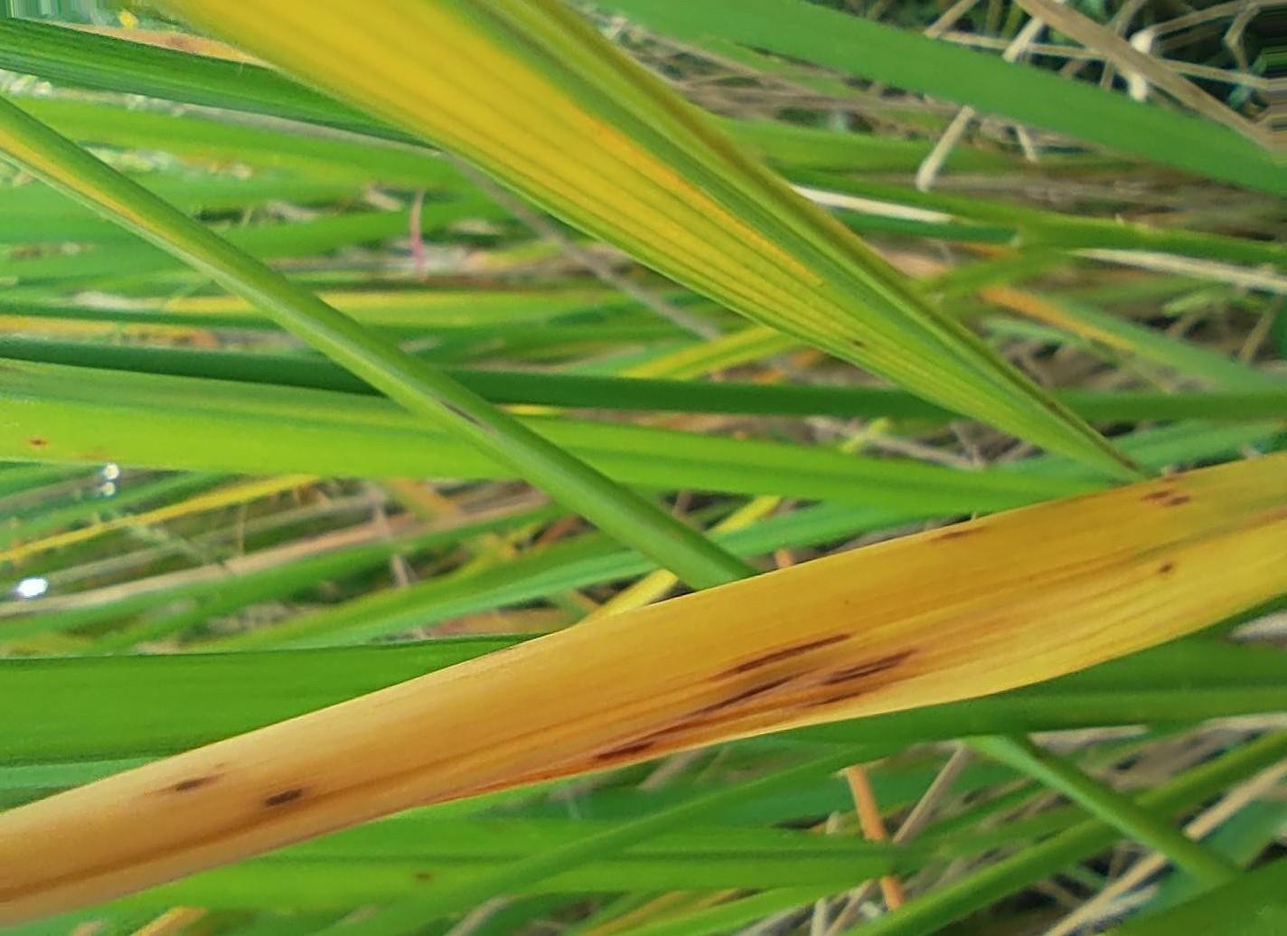LEAF: (0, 453, 1286, 924)
NBS: (709, 631, 857, 683), (686, 668, 822, 717), (638, 712, 751, 739), (825, 651, 914, 684), (595, 741, 654, 760), (932, 526, 991, 542), (807, 692, 865, 707), (264, 789, 303, 806), (174, 778, 217, 791), (1164, 494, 1191, 507), (1143, 490, 1172, 500), (1160, 562, 1174, 574)
